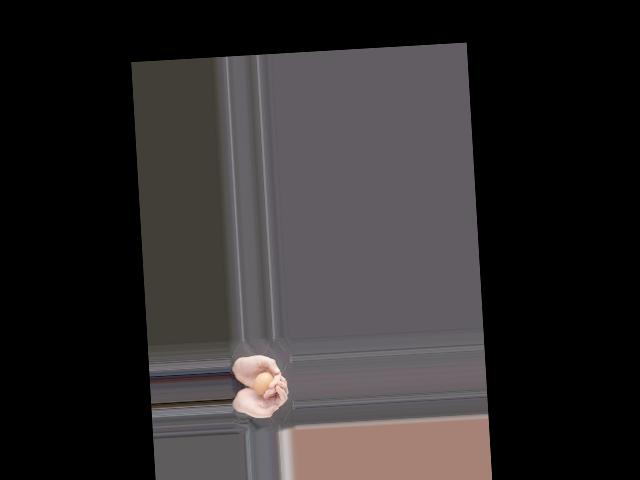egg: (252, 372, 273, 396)
